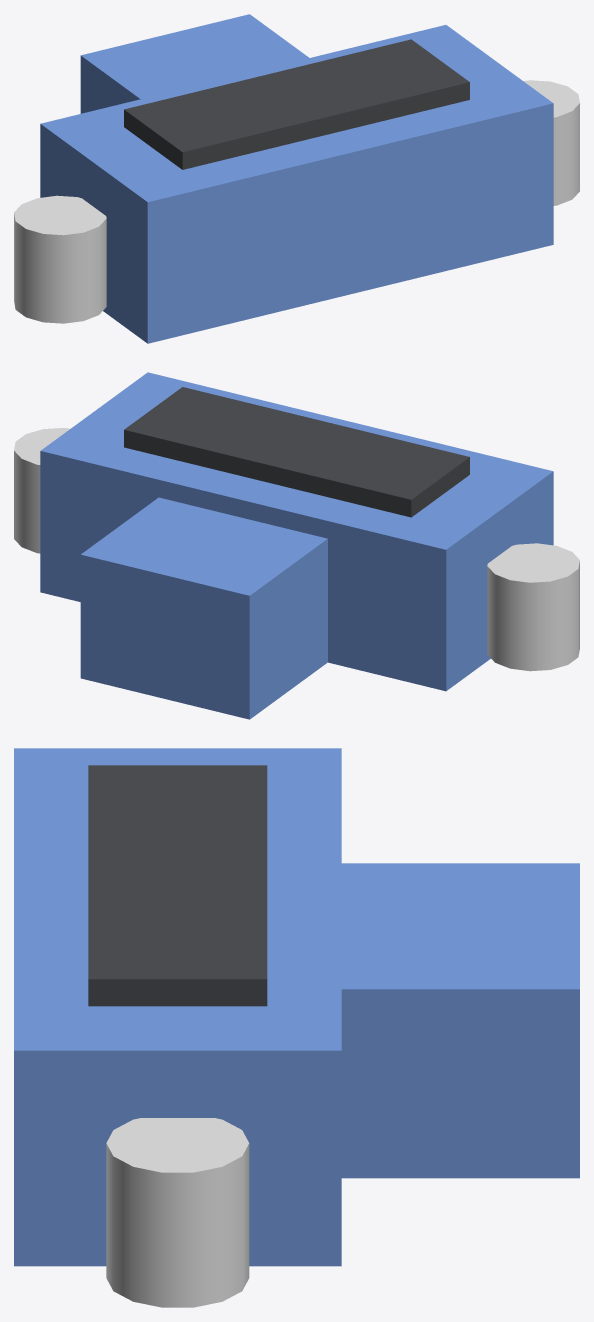
Rendered from vga-plug.glb.
The picture shows the model from 3 angles, top to bottom: view 1: azimuth 30°, elevation 25°; view 2: azimuth 150°, elevation 25°; view 3: azimuth 270°, elevation 25°; orthographic projection. The views are drawn at different scales.
Visible parts, largest first — view 1: c2f5bd1, c111214, ccfcfcf; view 2: c2f5bd1, c111214, ccfcfcf; view 3: c2f5bd1, c111214, ccfcfcf.
Boxes of the visible parts, bbox=[...] form: c2f5bd1: bbox=[40, 14, 553, 343]; c111214: bbox=[124, 39, 469, 169]; ccfcfcf: bbox=[14, 80, 579, 323]; c2f5bd1: bbox=[40, 372, 553, 719]; c111214: bbox=[124, 387, 469, 517]; ccfcfcf: bbox=[14, 428, 579, 671]; c2f5bd1: bbox=[14, 748, 579, 1266]; c111214: bbox=[88, 765, 267, 1006]; ccfcfcf: bbox=[106, 1118, 249, 1307].
Size of the model in its own units: 32.68 by 9 by 19.
